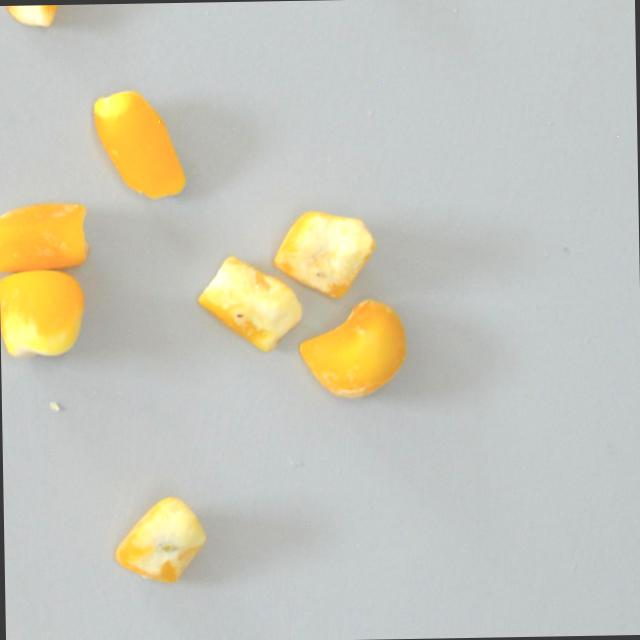dañado: (301, 292, 413, 404)
estandar: (85, 86, 191, 205), (0, 261, 106, 363), (0, 196, 102, 272)
punto_negro: (272, 193, 378, 301), (196, 253, 305, 356), (112, 491, 209, 587), (0, 4, 87, 31)
